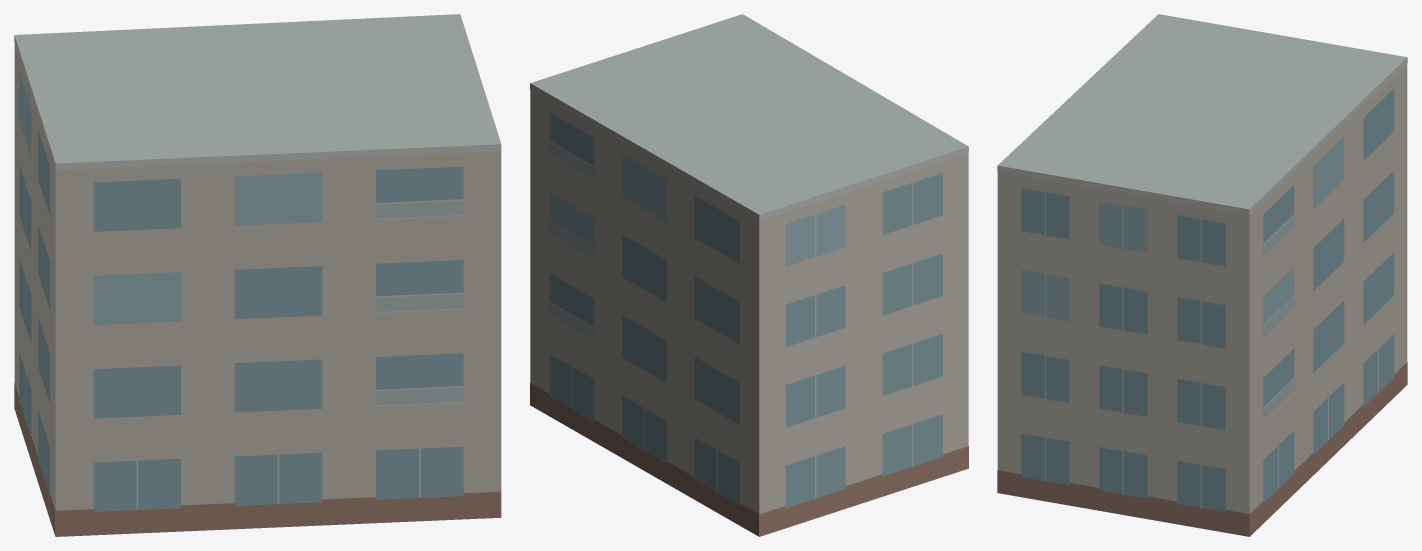
Rendered from survey-upis-32869398.glb.
3 views of the same model, side by side, from view 1: azimuth 30°, elevation 25°; view 2: azimuth 150°, elevation 25°; view 3: azimuth 270°, elevation 25° (orthographic). The views are drawn at different scales.
Visible parts, largest first — view 1: survey-upis-32869398.tmp; view 2: survey-upis-32869398.tmp; view 3: survey-upis-32869398.tmp.
Part boxes in pixels (x1,y1,x2,y2): survey-upis-32869398.tmp: (14,14,501,536); survey-upis-32869398.tmp: (530,14,968,536); survey-upis-32869398.tmp: (997,14,1407,536).
Bounding box in the file's own units: 16.52 × 12.9 × 14.65.
